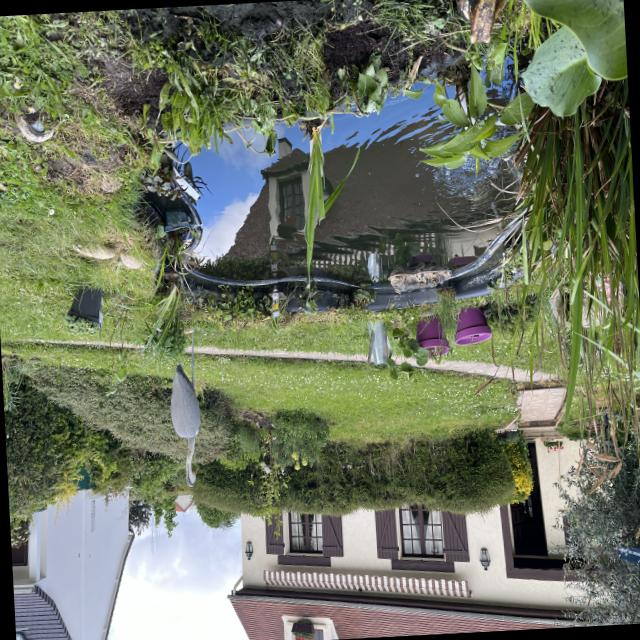Heron: (154, 300, 216, 500)
